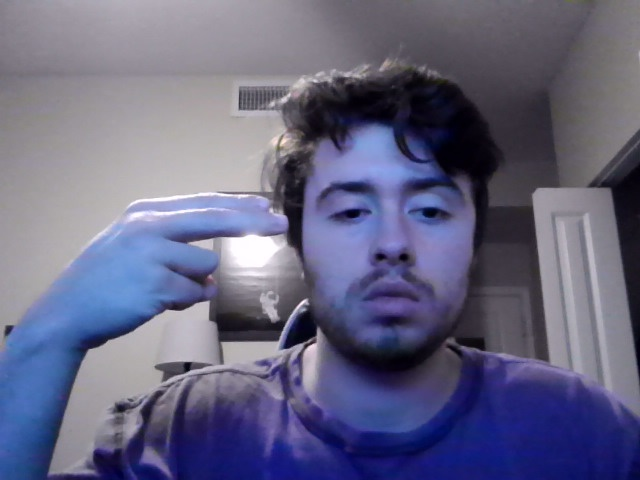h: (14, 191, 290, 367)
